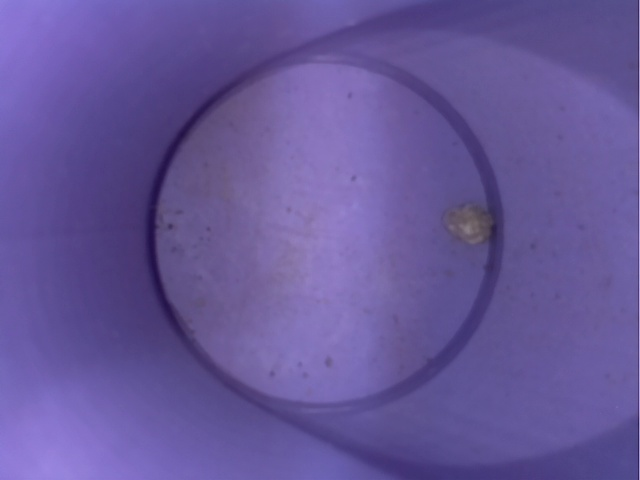caillou: (431, 188, 508, 253)
